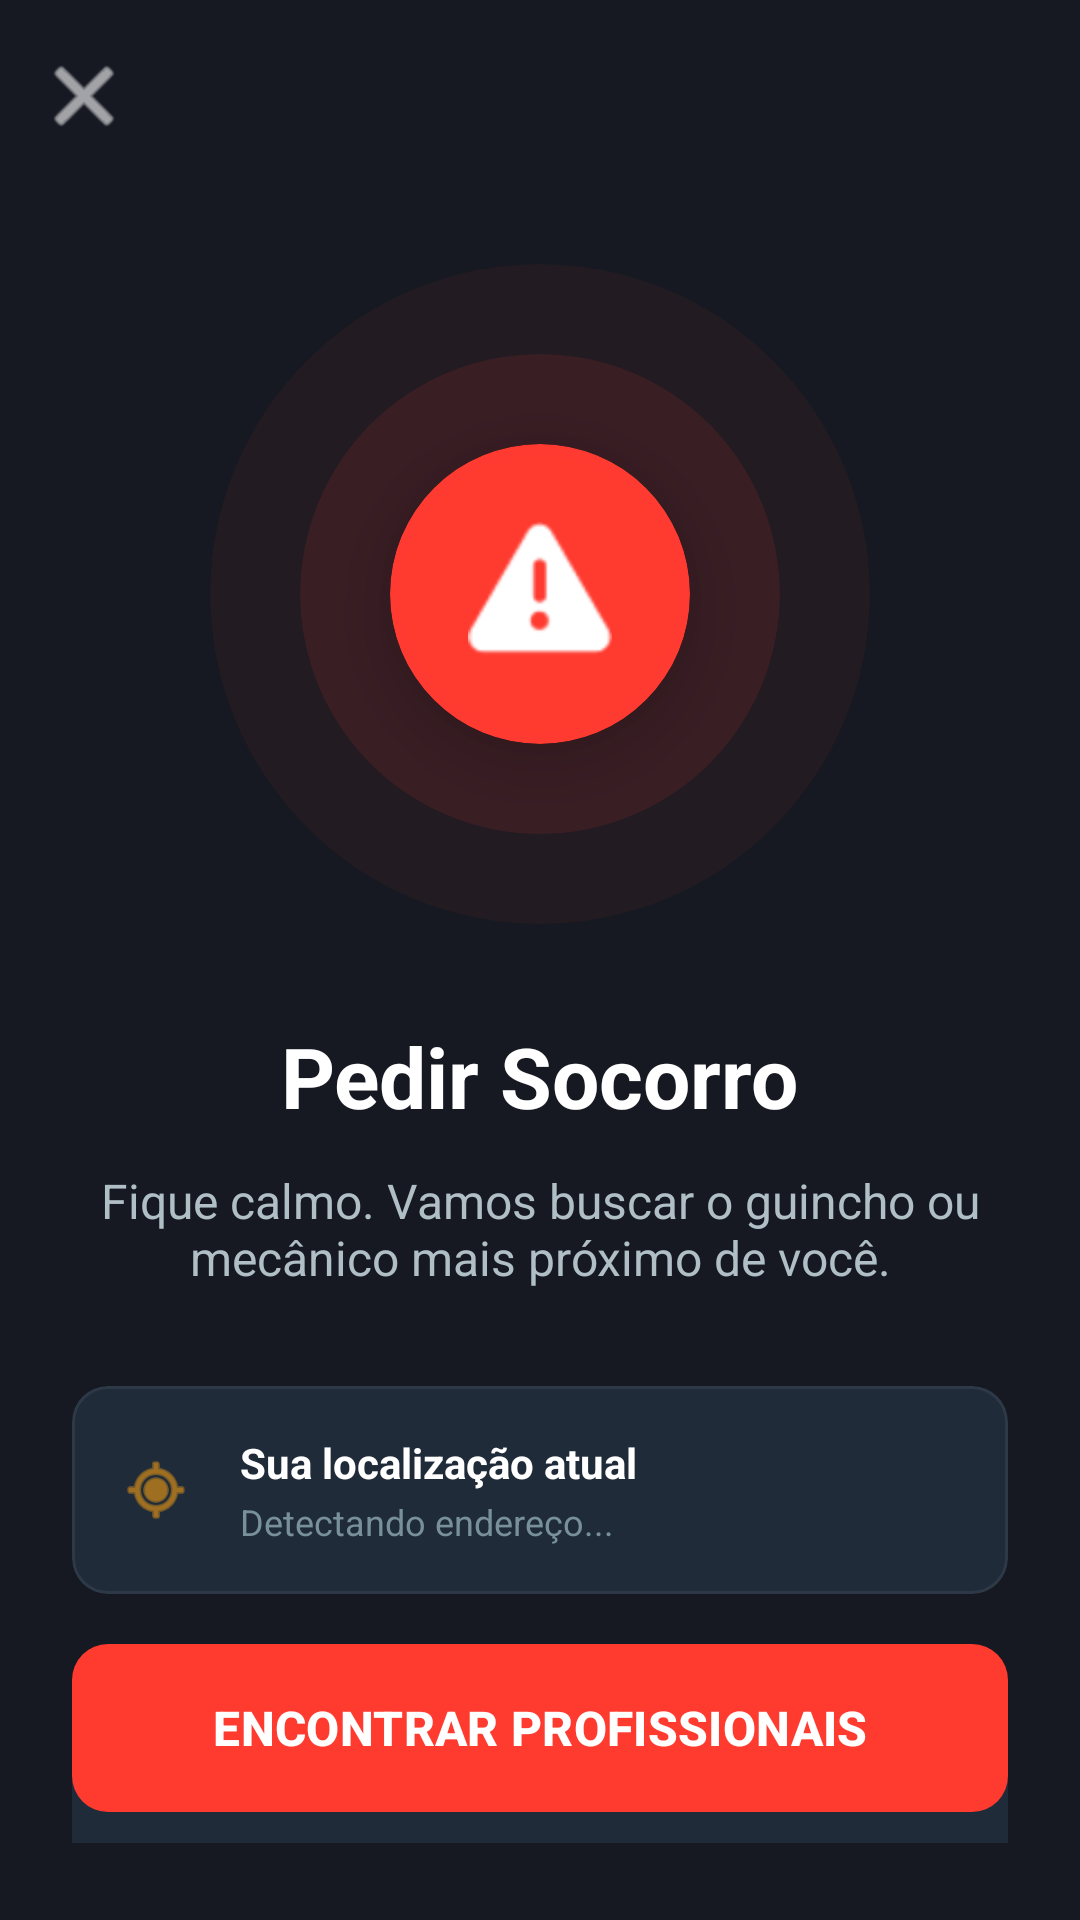

Point at icon controls on the screen. Image size 1080x1920, points as (x,y).
alert: (540,587)
mylocation: (156,1490)
